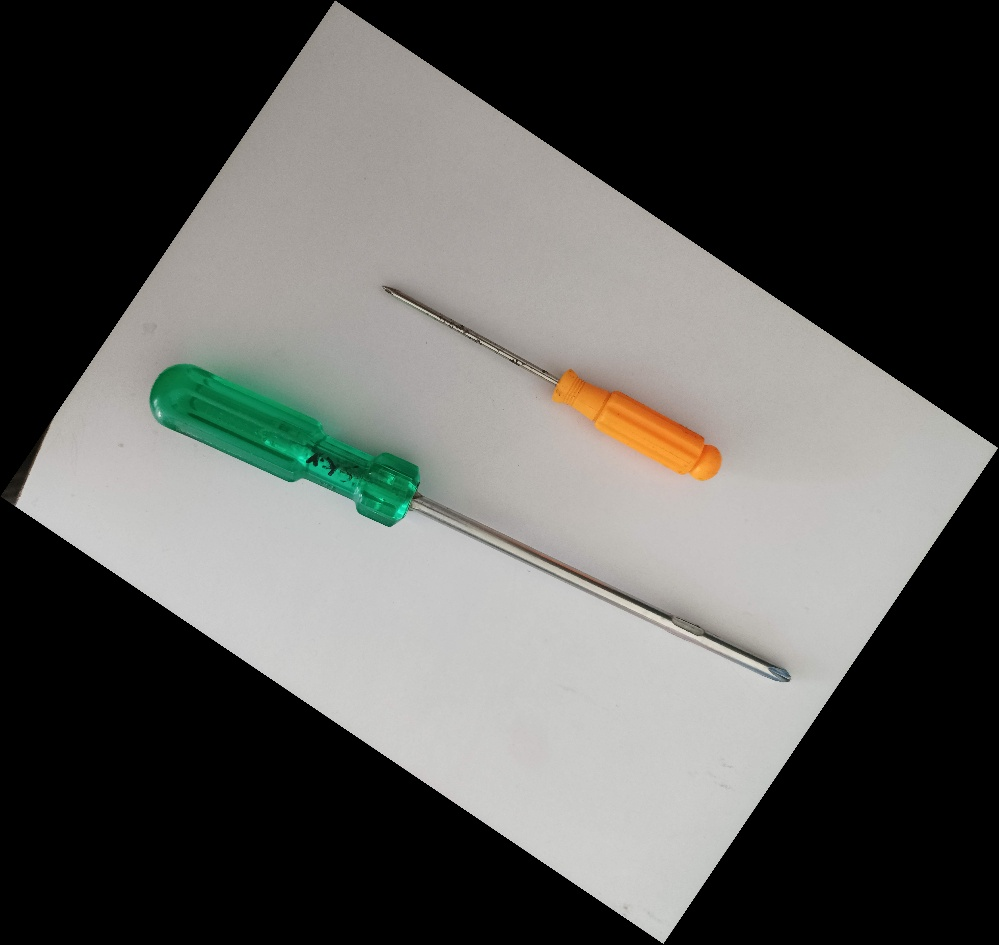screwdriver: (146, 358, 794, 689), (359, 229, 738, 525)
